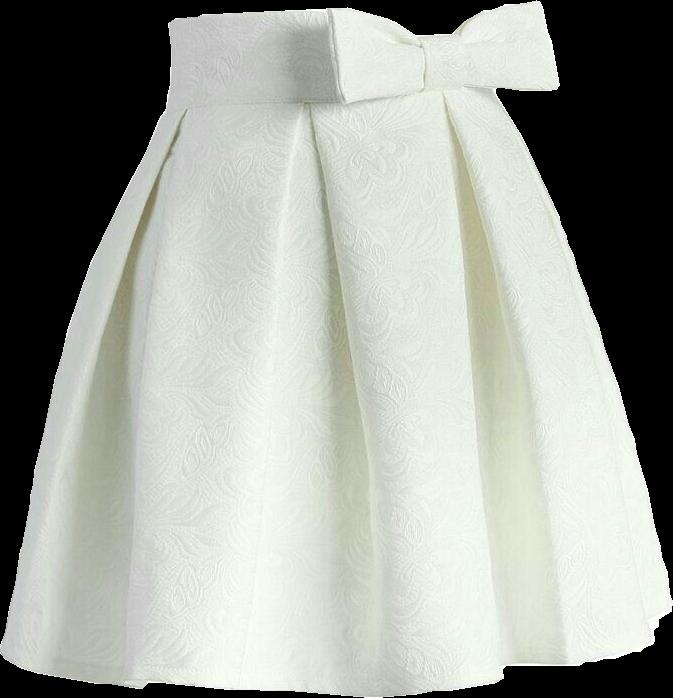Hemline: (0, 607, 672, 694)
Waistline: (165, 0, 543, 33), (161, 82, 492, 113)
